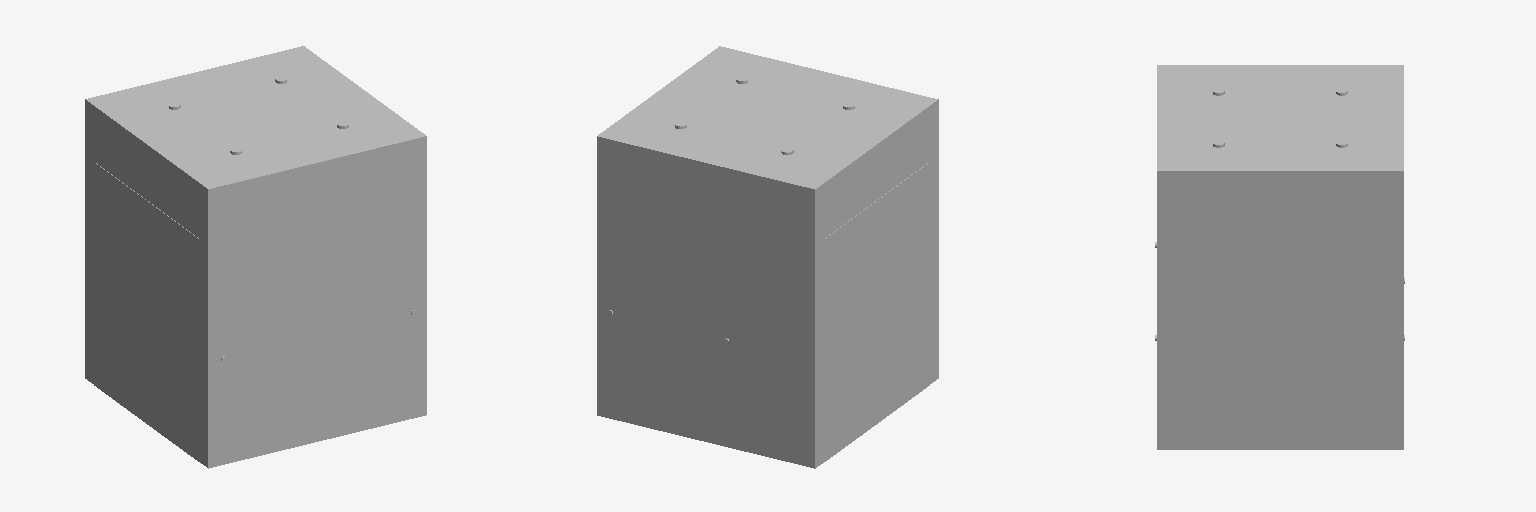
Rendered from lift.obj.
3 views of the same model, side by side, from view 1: azimuth 30°, elevation 25°; view 2: azimuth 150°, elevation 25°; view 3: azimuth 270°, elevation 25° (orthographic).
Visible parts, largest first — view 1: lift, door.001, door; view 2: lift, door.001, door; view 3: lift.
Part boxes in pixels (x1,y1,x2,y2): lift: (85, 46, 426, 468); door.001: (146, 200, 198, 461); door: (94, 162, 145, 422); lift: (597, 46, 938, 468); door.001: (877, 162, 929, 423); door: (825, 201, 876, 461); lift: (1157, 65, 1403, 449).
Size of the model in its own units: 4.11 by 5.05 by 4.05.